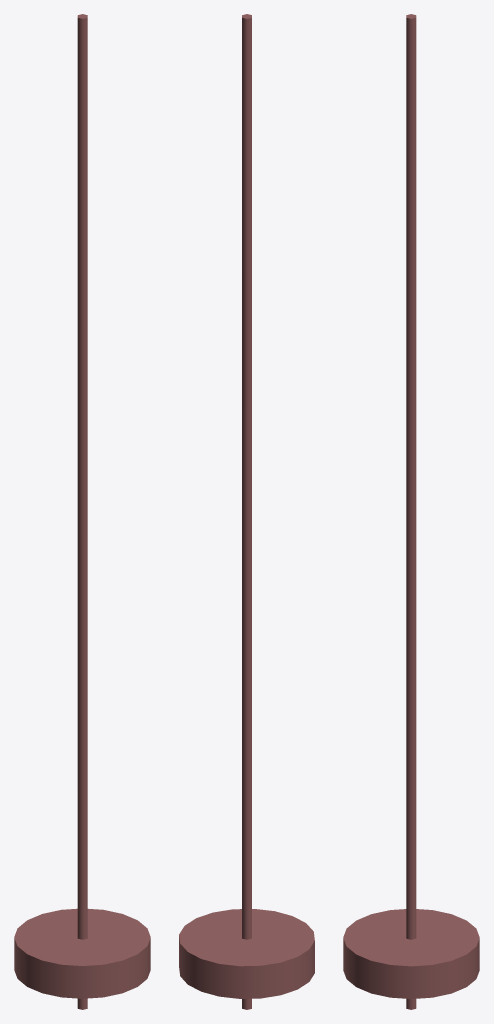
File: antenna.FBX
The picture shows the model from 3 angles, left to right: view 1: azimuth 90°, elevation 25°; view 2: azimuth 210°, elevation 25°; view 3: azimuth 270°, elevation 25°; orthographic projection.
Visible parts, largest first — view 1: Cylinder023; view 2: Cylinder023; view 3: Cylinder023.
Part boxes in pixels (<box>): Cylinder023: <box>14,14,150,1009</box>; Cylinder023: <box>179,14,314,1009</box>; Cylinder023: <box>343,14,479,1009</box>.
Size of the model in its own units: 0.2353 by 1.88 by 0.2353.
